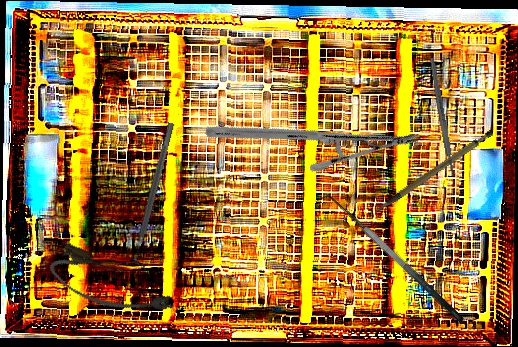Cannula: (43, 239, 181, 334)
Fixation Ring: (124, 120, 183, 271)
Needle Holder: (203, 43, 421, 228)
Scalpel Handle: (365, 127, 502, 214), (428, 57, 457, 177)
Spatula Surgical: (314, 184, 466, 336)
